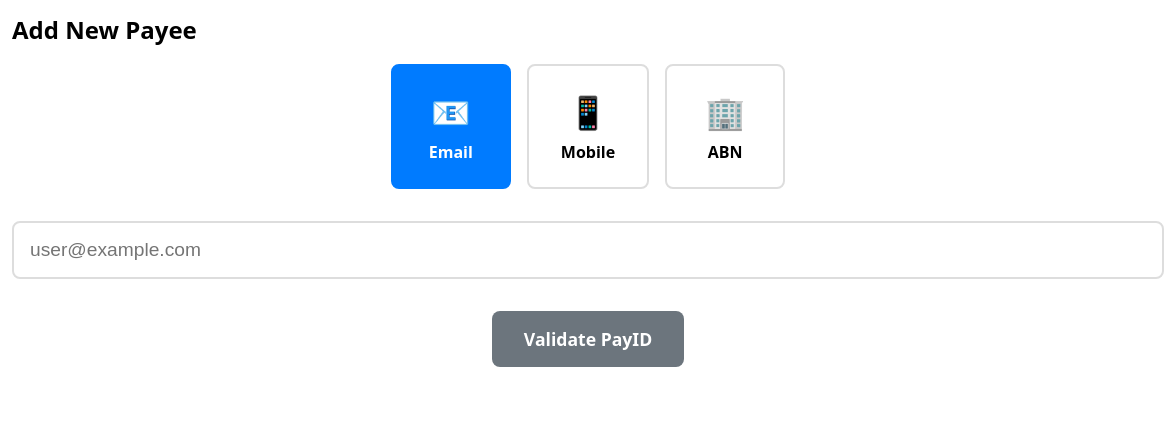
Scenario: AddNewPayee › PayID validation › should enable Add Payee button only after confirmation checkbox is checked
Step 1. Type "test@example.com" into the field with placeholder "user@example.com" → (588, 250), box [12,221,1164,279]
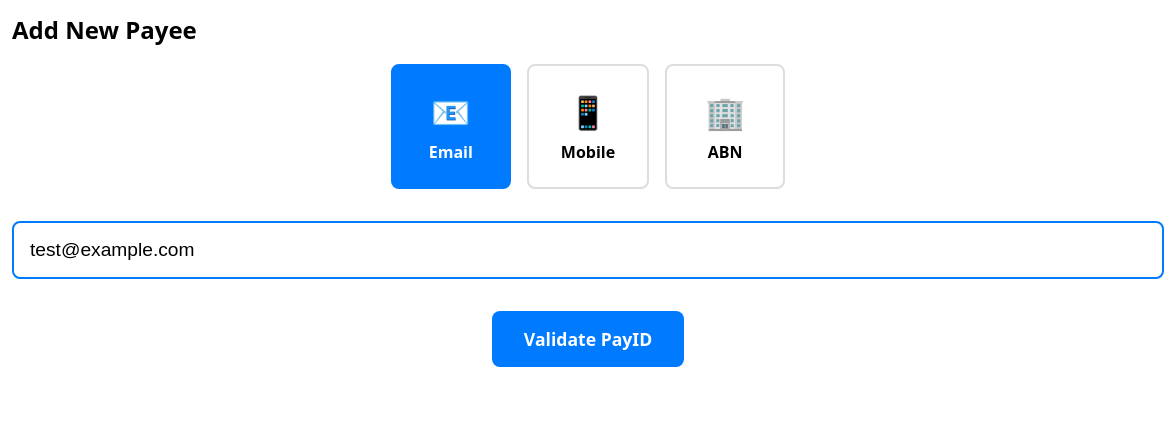
Step 2. Click the button "Validate PayID" → (588, 339), box [492,311,684,367]
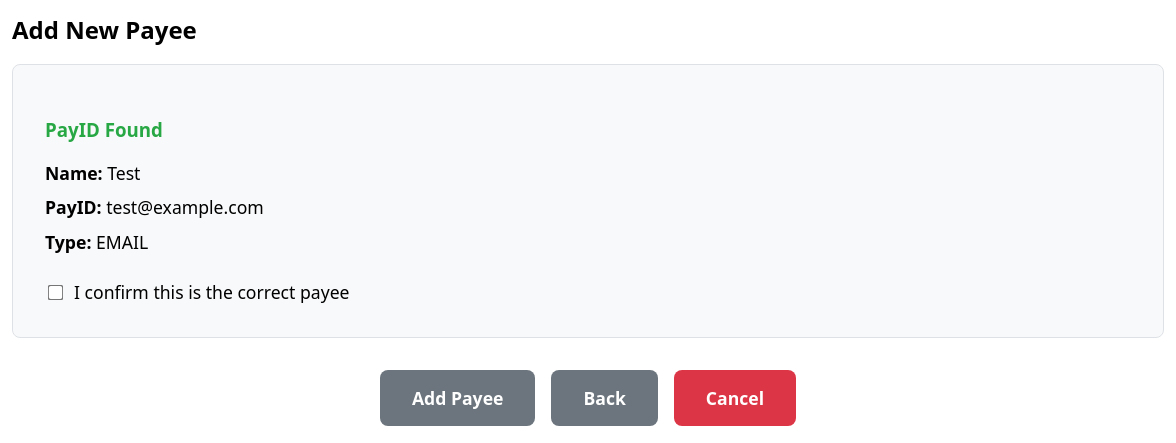
Now the heading "PayID Found" is shown, box [45,117,163,142]
Now the button "Add Payee" is disabled, box [380,370,536,426]
Step 3. Click the checkbox → (56, 292), box [48,284,63,300]
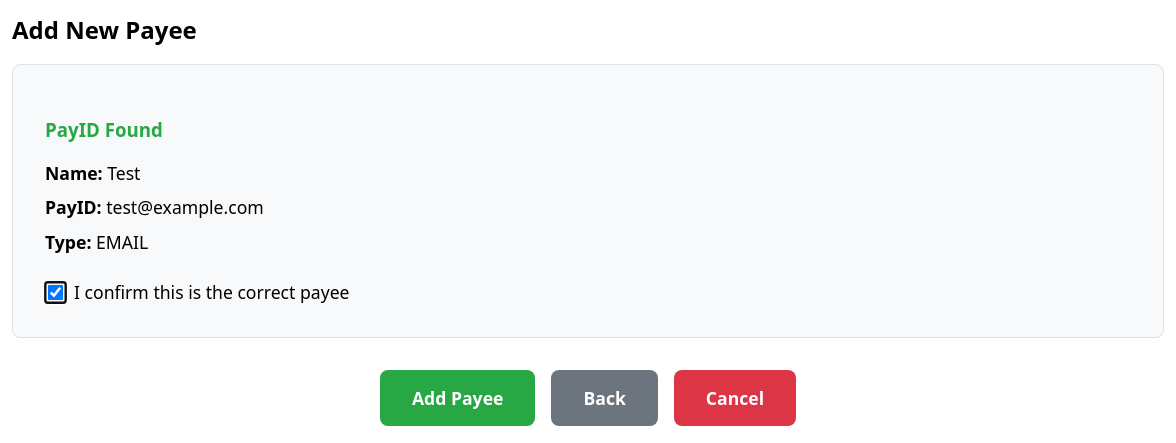
Now the button "Add Payee" is enabled, box [380,370,536,426]
